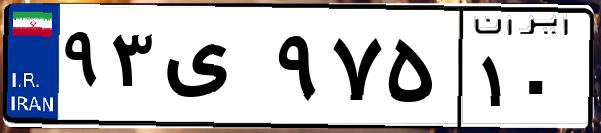0: (525, 38, 570, 115)
1: (475, 38, 525, 113)
3: (110, 28, 158, 98)
5: (385, 28, 445, 110)
7: (330, 28, 385, 110)
9: (270, 28, 330, 110), (57, 26, 110, 100)
ی: (158, 20, 270, 120)
